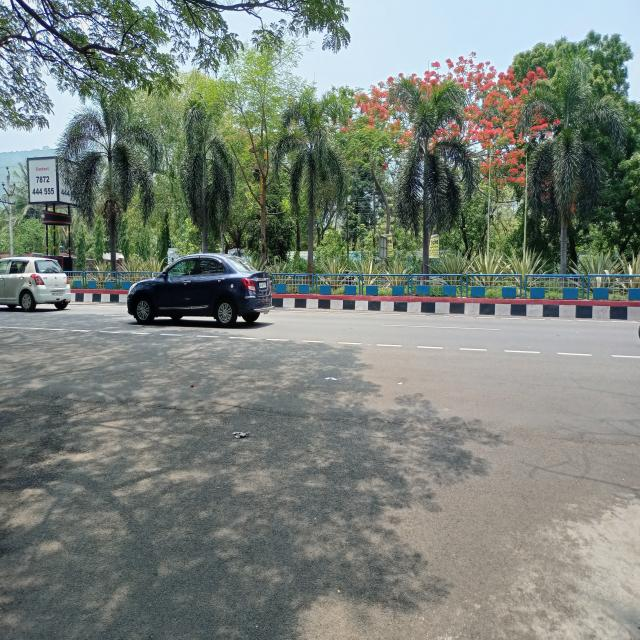car: (121, 248, 278, 328)
